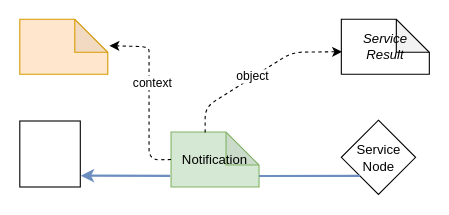
Image size: 449x215. Some labels were removed from this diagram. The shapes that lost their labels are listed below. From the top down, each one's centre as x and y in pixels, then its label:
At [63,46]: "Artifact".
At [49,153]: "Data node".
